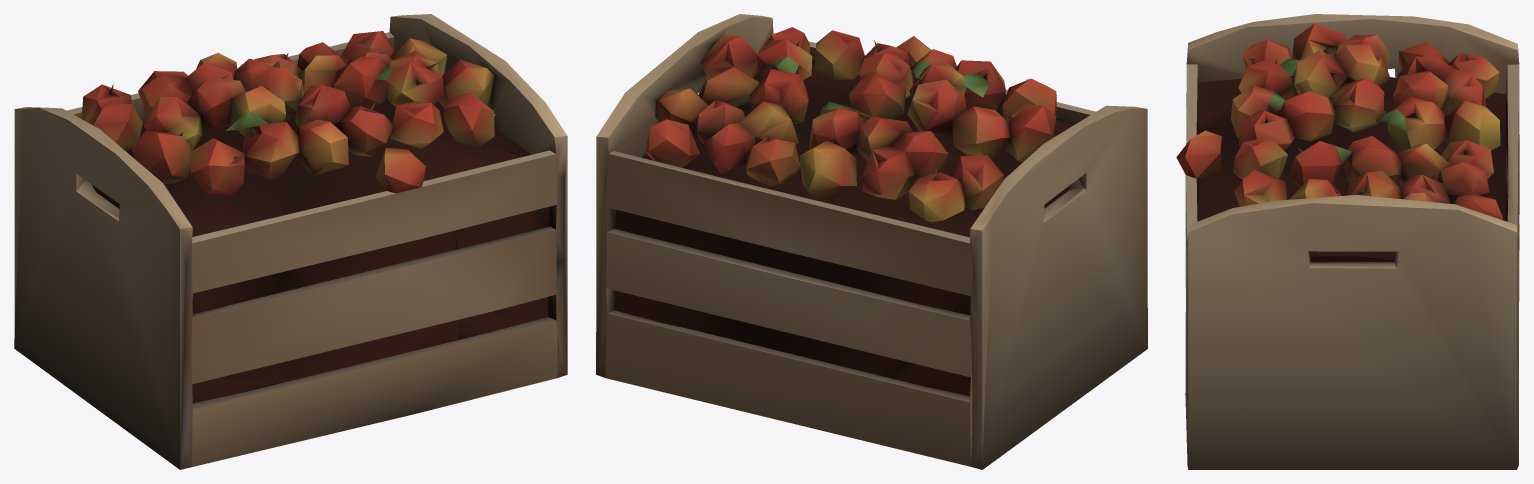
File: crate_apples.glb
3 renders of one model, left to right at view 1: azimuth 30°, elevation 25°; view 2: azimuth 150°, elevation 25°; view 3: azimuth 270°, elevation 25°, orthographic.
Visible parts, largest first — view 1: crate_apples_LOD0; view 2: crate_apples_LOD0; view 3: crate_apples_LOD0.
Boxes of the visible parts, box(x1,y1,x2,y2) form: crate_apples_LOD0: box(14, 14, 567, 469); crate_apples_LOD0: box(596, 14, 1147, 469); crate_apples_LOD0: box(1176, 14, 1519, 469).
Size of what is drawn, in the model's own units: 0.9008 by 0.6629 by 0.6934.
